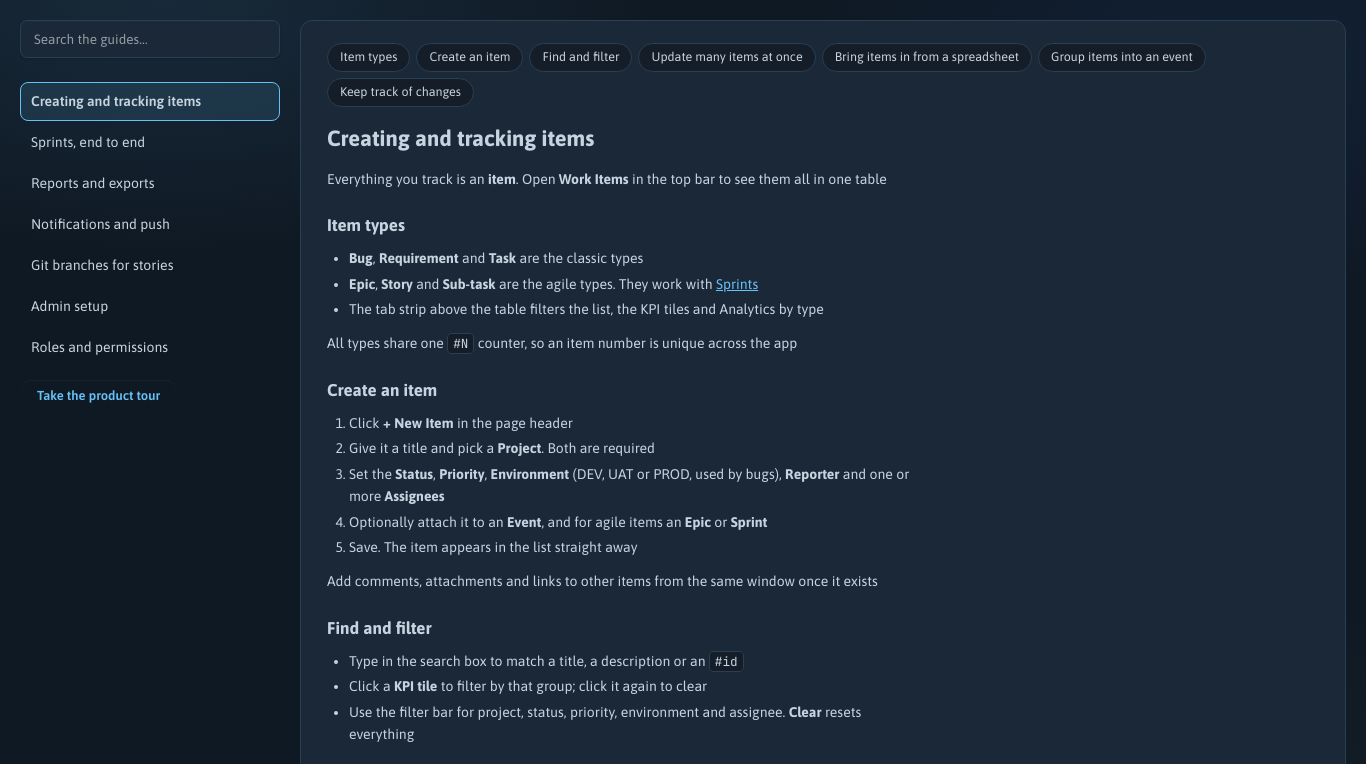
Test: HelpCenter › follows in-guide links without touching the URL hash
Click the link "Sprints".
click(737, 284)  # box x1=716 y1=276 x2=758 y2=292
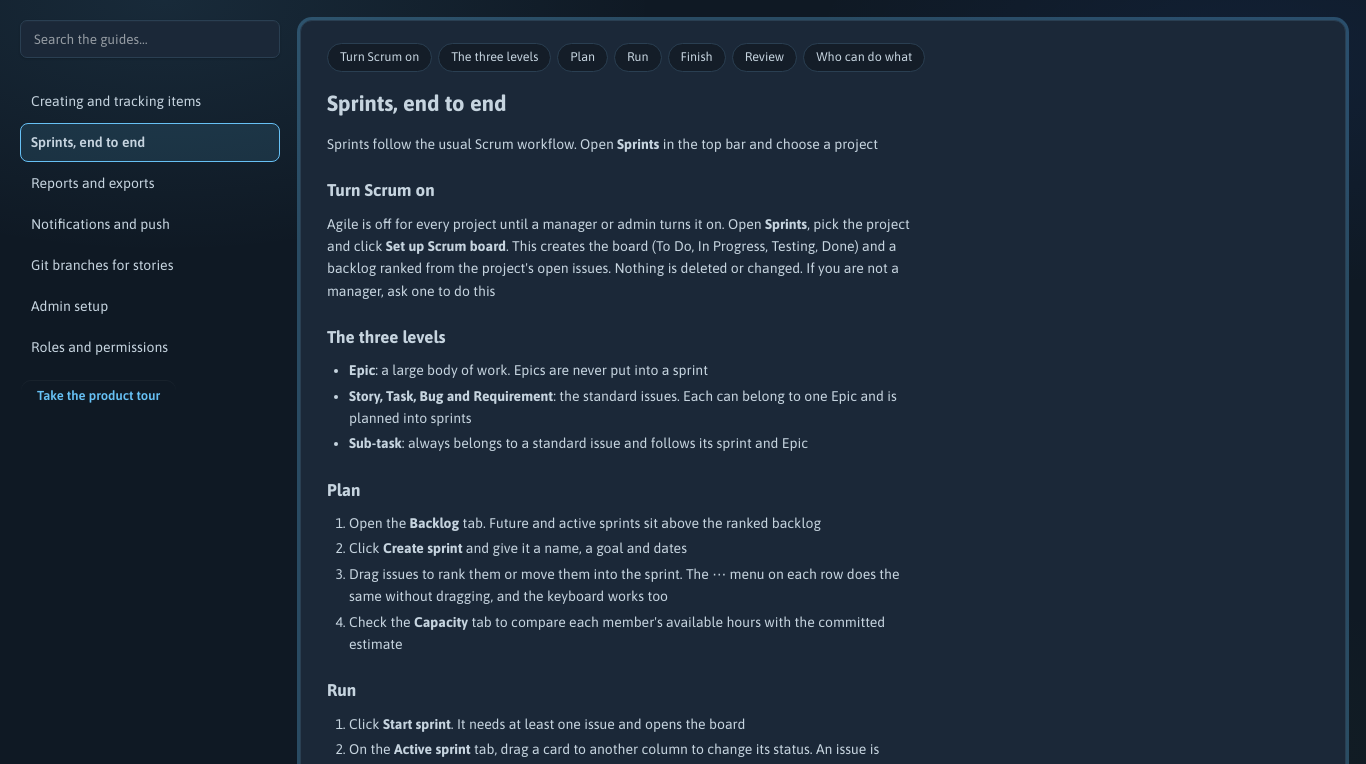
Check: the heading "Sprints, end to end" is shown, box x1=327 y1=90 x2=506 y2=116
